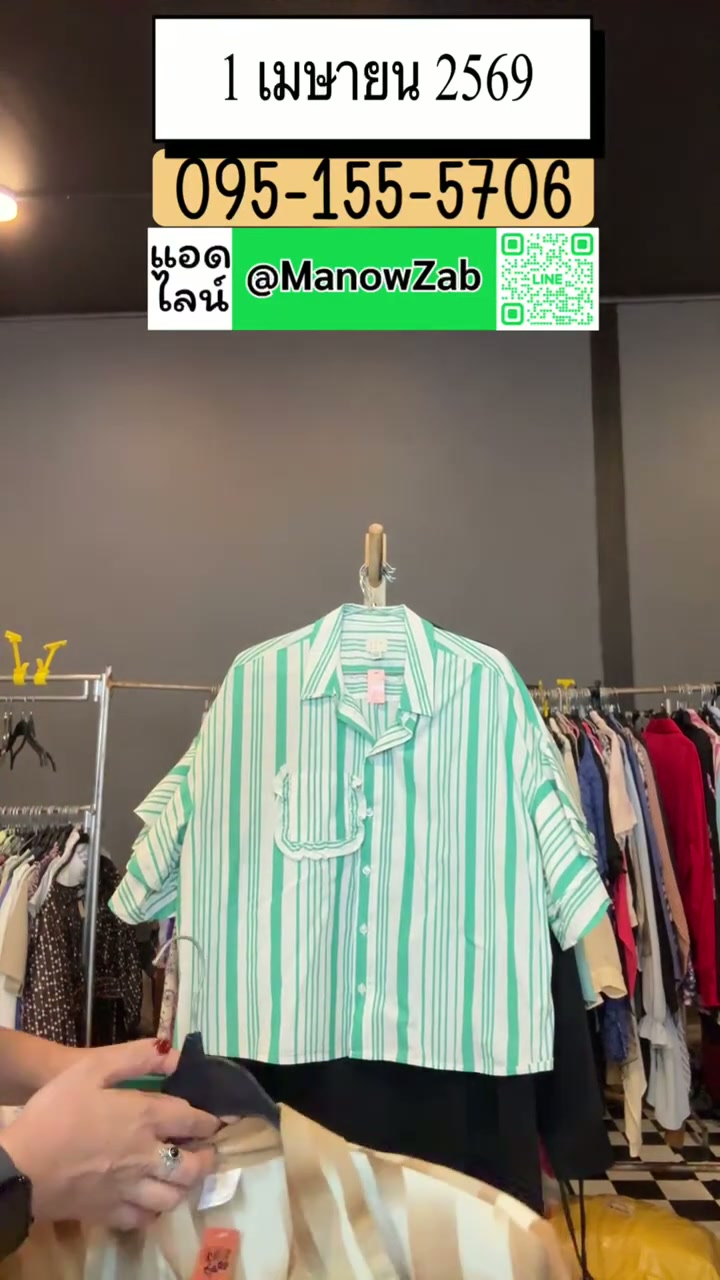display_shirt: (111, 604, 607, 1077)
